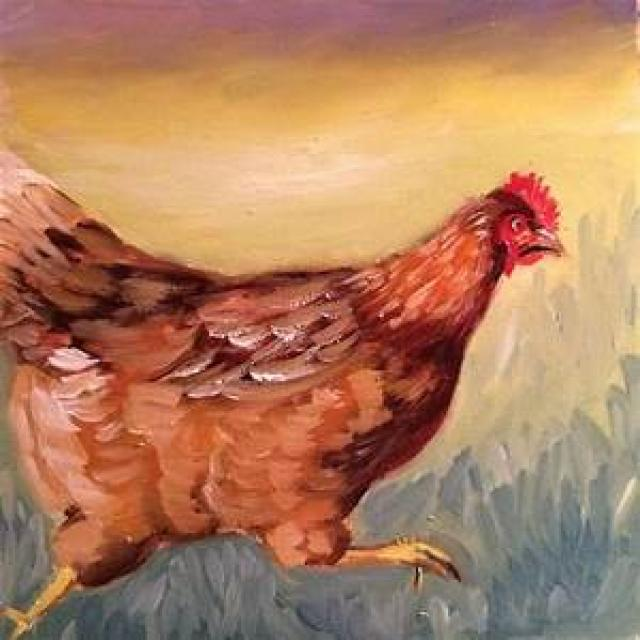hen: (0, 146, 565, 589)
